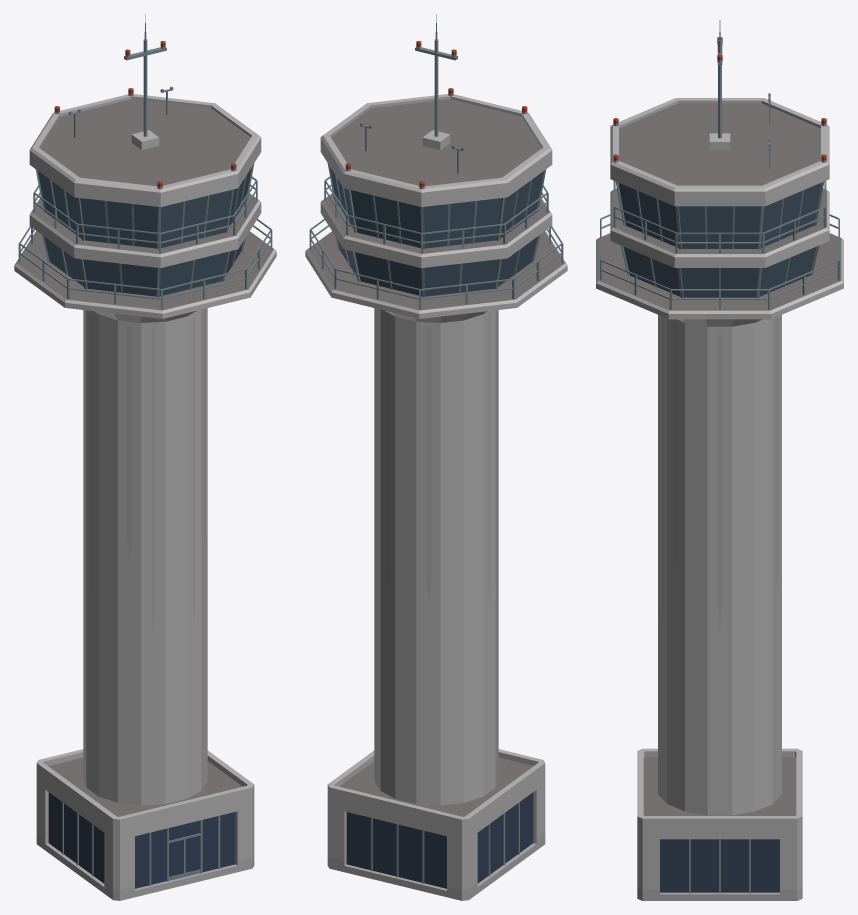
The model's file is control-tower-c95a65.glb.
3 views of the same model, side by side, from view 1: azimuth 30°, elevation 25°; view 2: azimuth 150°, elevation 25°; view 3: azimuth 270°, elevation 25° (orthographic).
Parts seen in each view (by area): view 1: tower; view 2: tower; view 3: tower.
Part boxes in pixels (box(x1,y1,x2,y2)): tower: box(14, 14, 276, 900); tower: box(305, 14, 567, 900); tower: box(596, 20, 843, 900).
Bounding box in the file's own units: 12 × 45.5 × 12.
